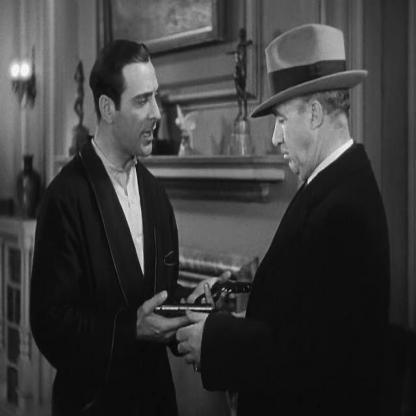gun: (150, 282, 219, 327)
